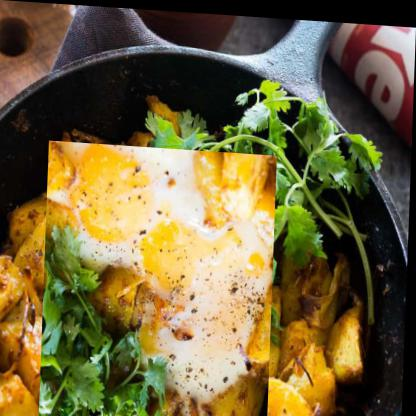egg: (41, 139, 280, 415)
